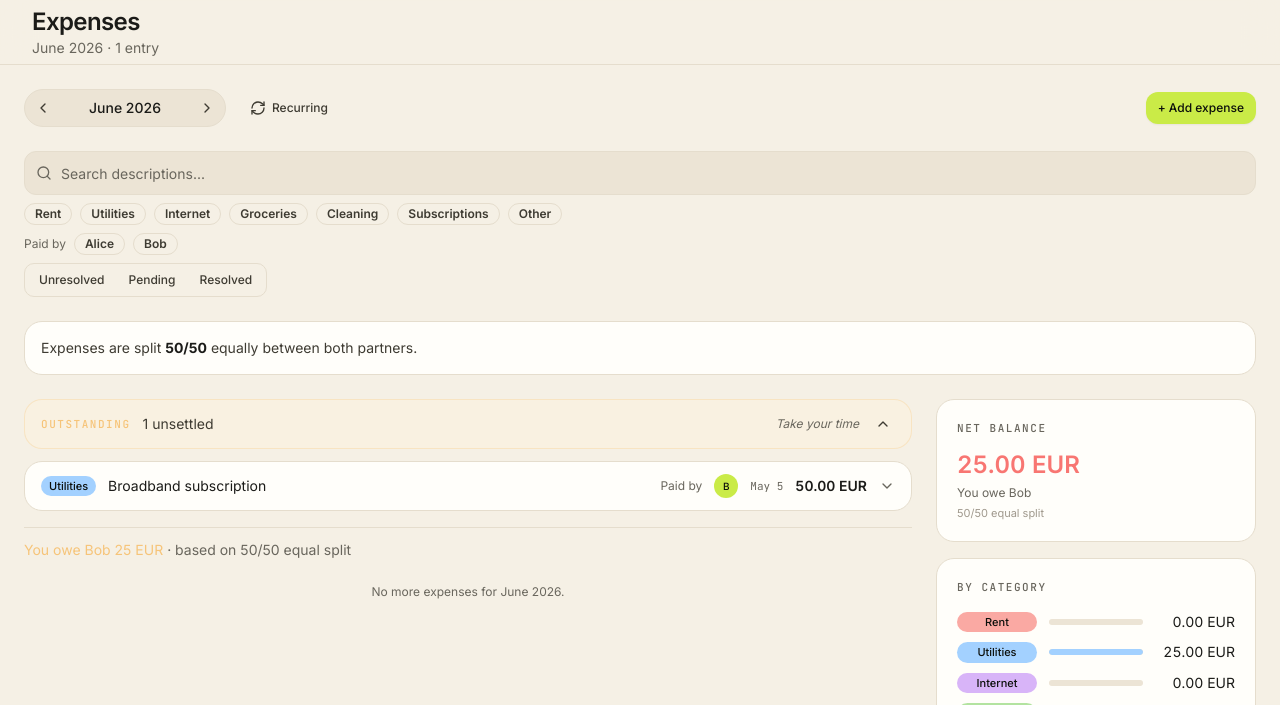
it: <ExpensesPage /> mode matrix › I-m.1 — split + equal renders equal-split signal
Check: the text "50/50" is shown, box [165,339,207,356]
Click the text "Broadband subscription": (187, 486) [108,477,266,494]
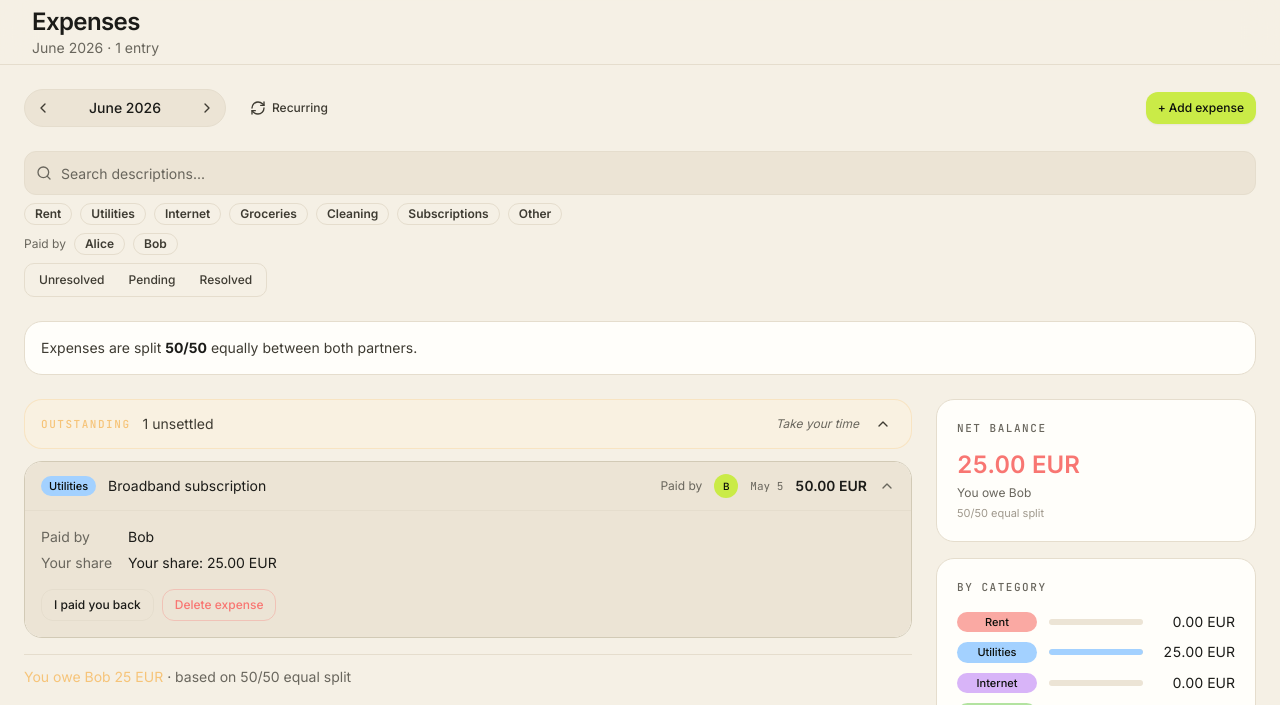
Check: the text "Your share: 25.00 EUR" is shown, box [128,554,277,571]
